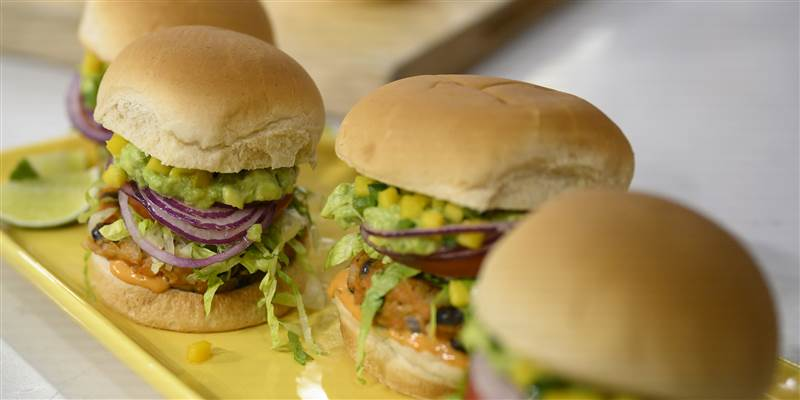hamburger_buns: (325, 62, 660, 400), (68, 13, 344, 362)
